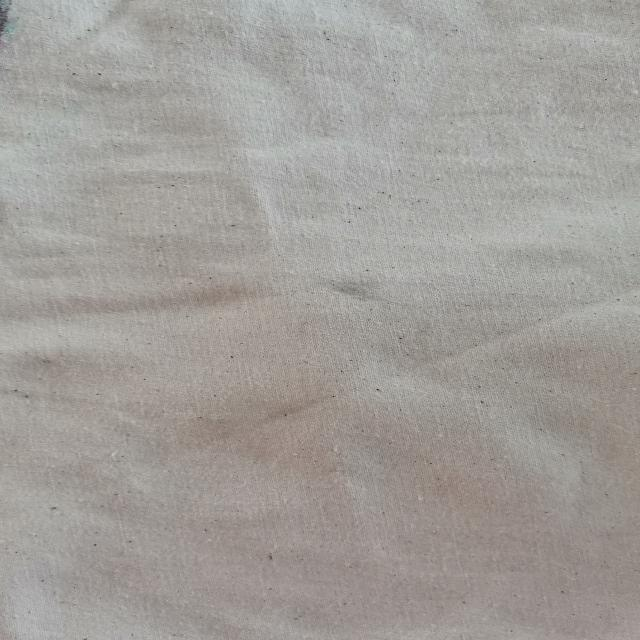taaaches: (304, 273, 394, 311), (0, 0, 36, 78)
